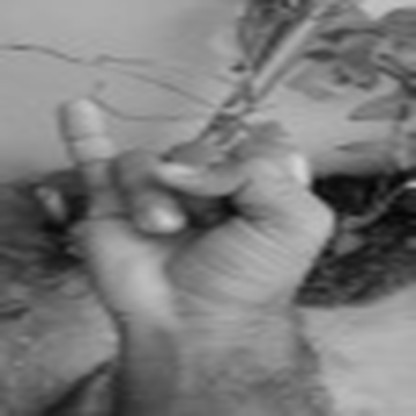i: (54, 91, 342, 311)
